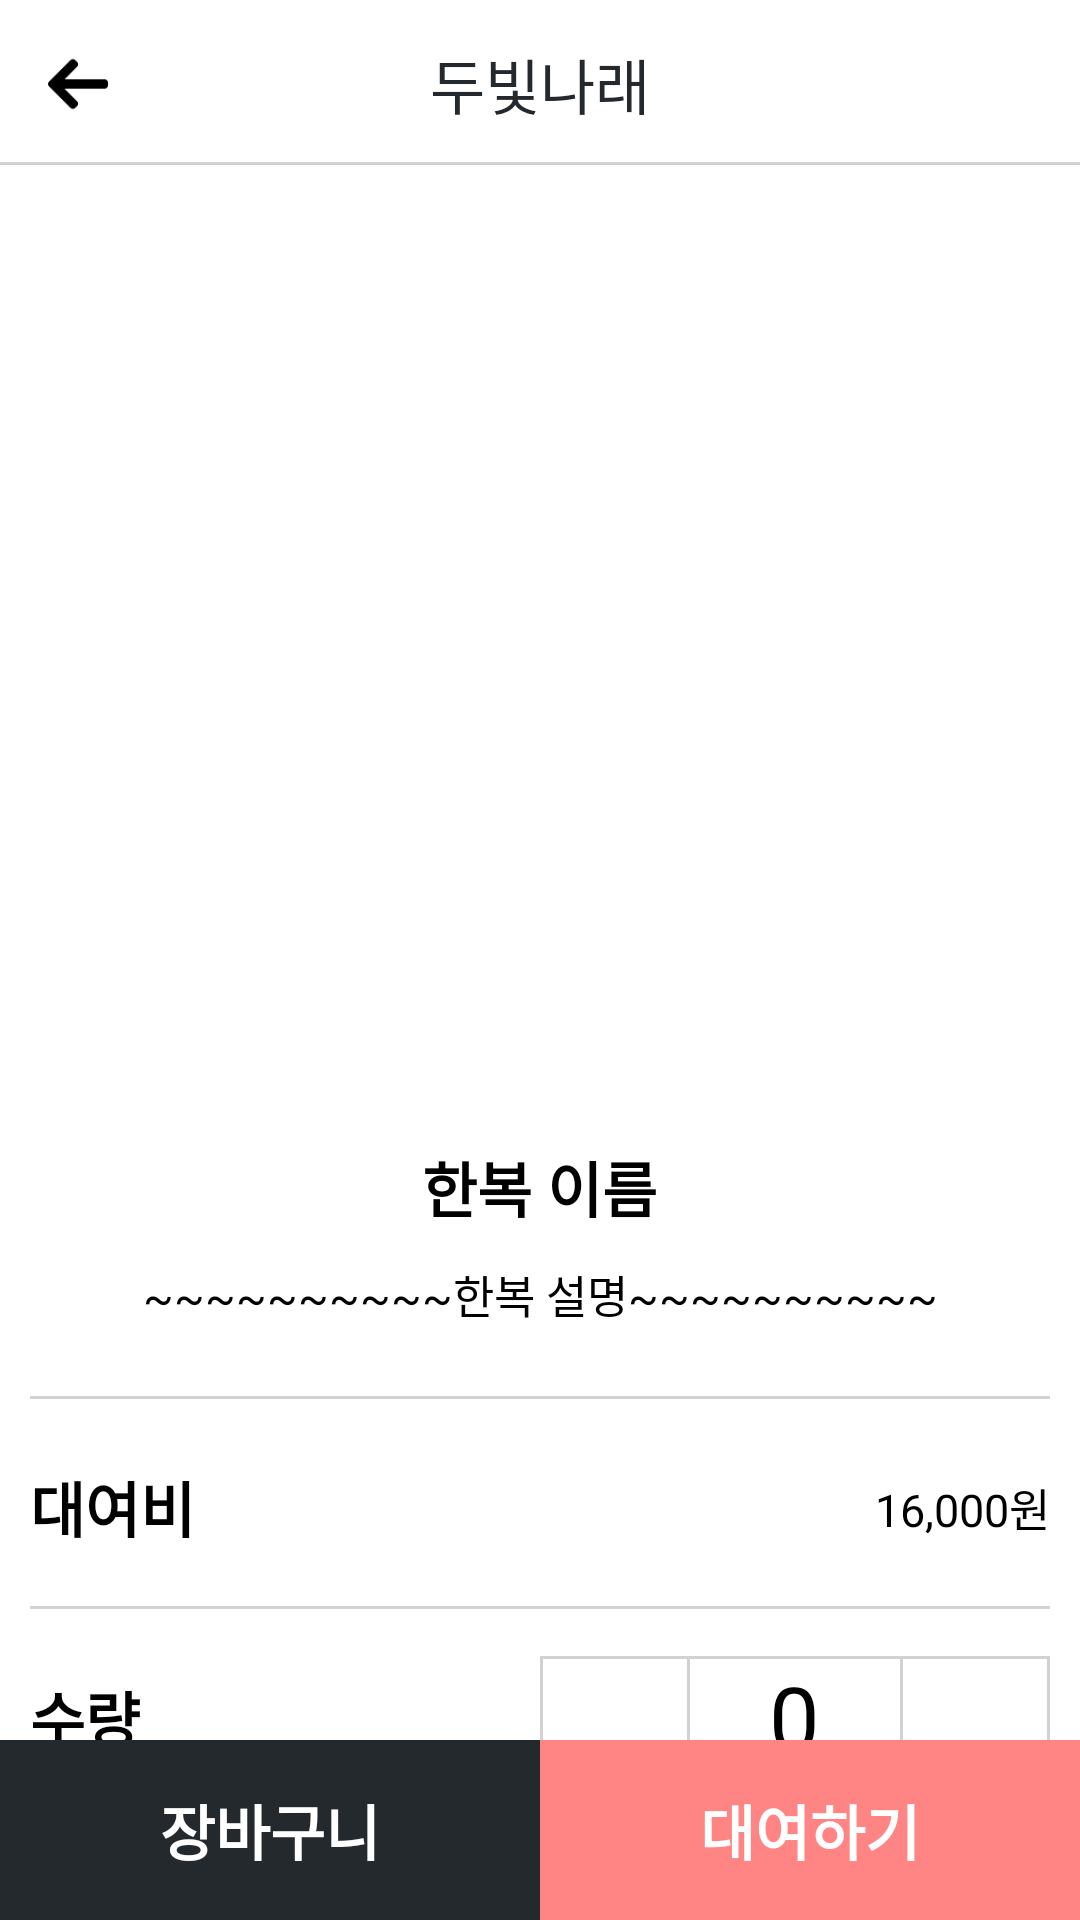

Where to tap for icons on this 1080x1920 app screen, as [x,y]:
left arrow: [78,84]
